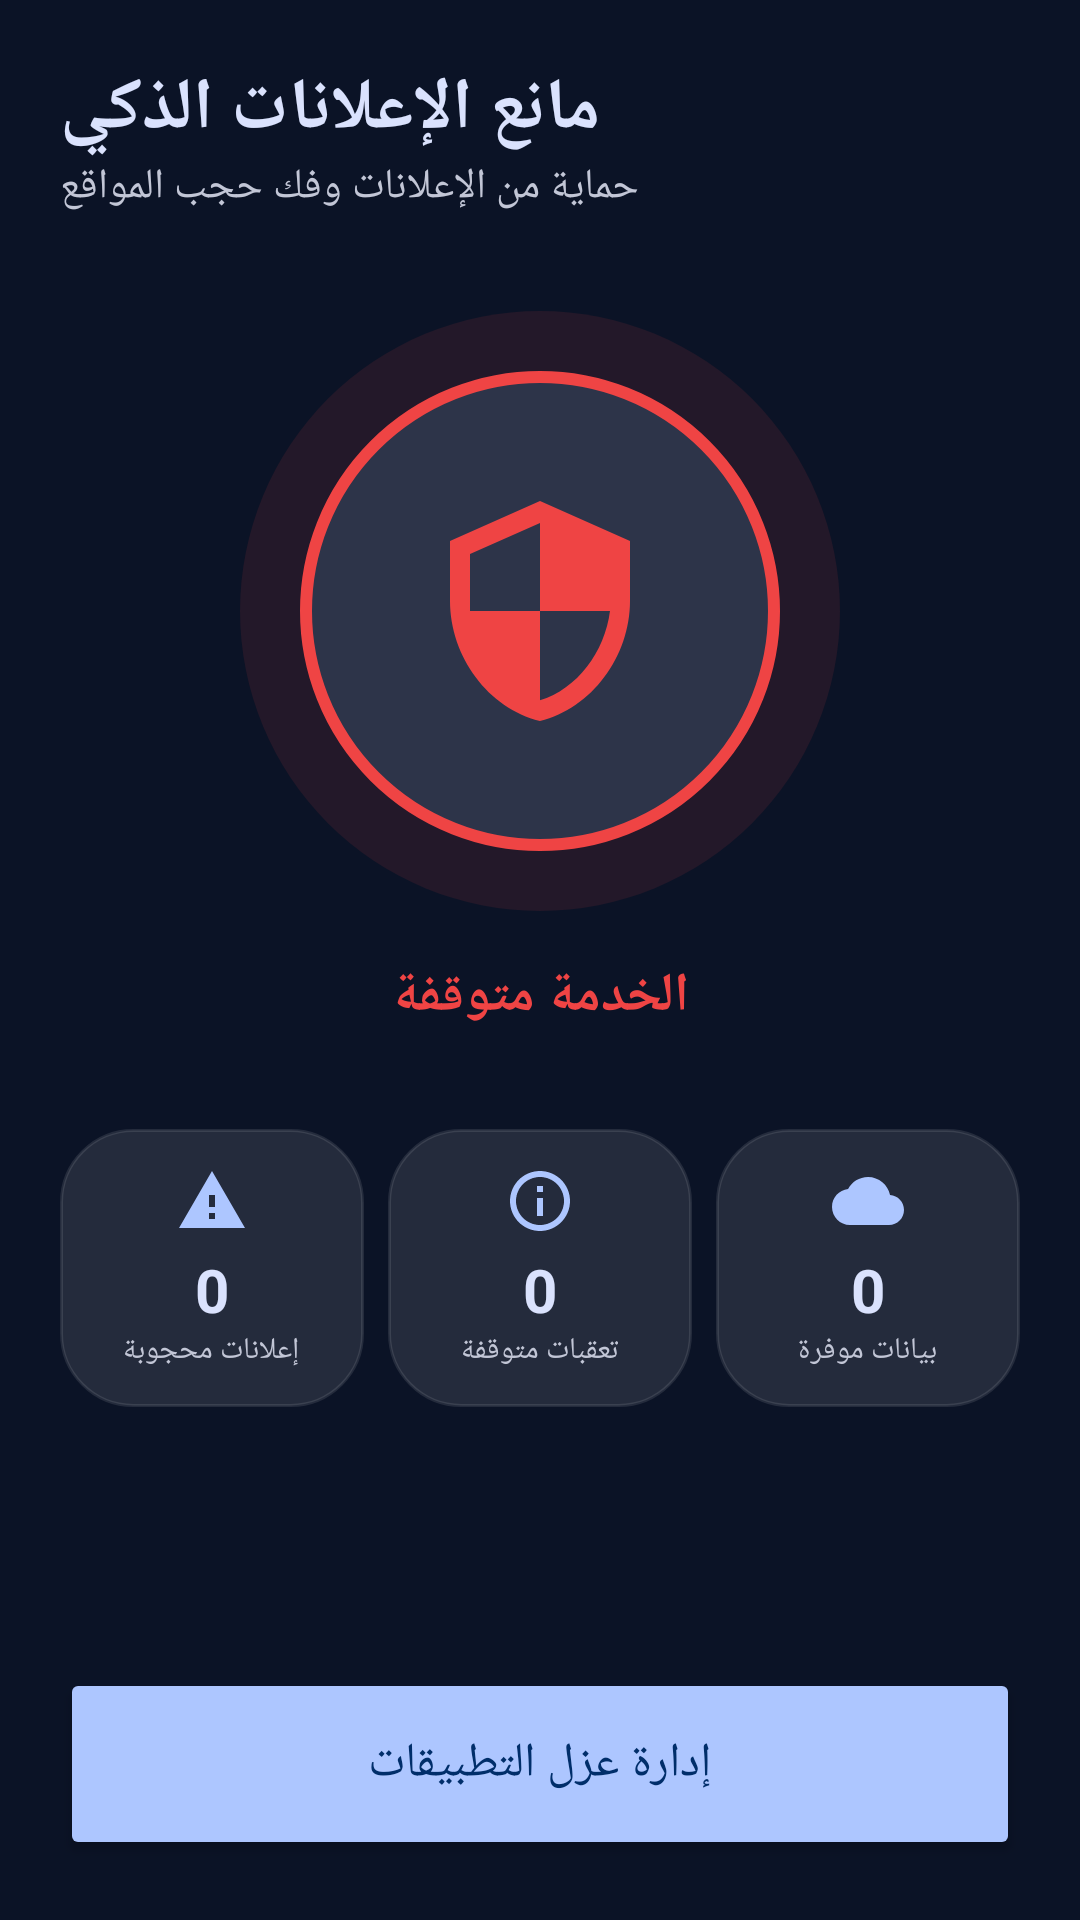

Icons on this 1080×1920 Android screen, each with the point to tap as [x,y]:
data: [868,1201]
